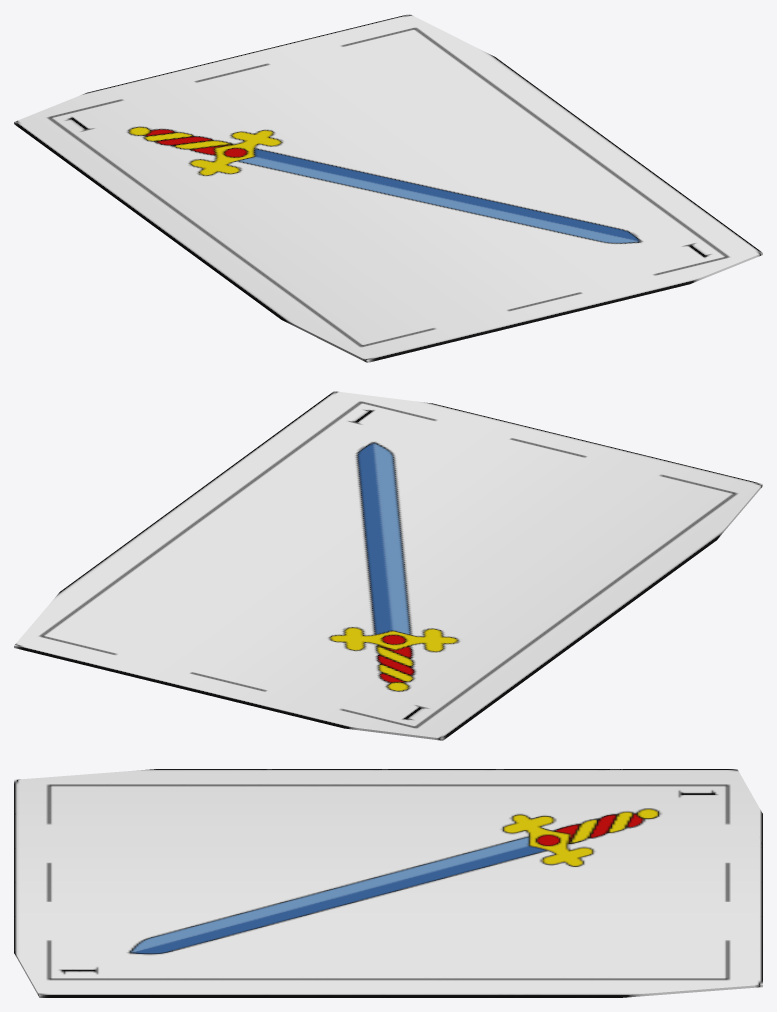
File: Carta_Espanola_As_Espadas.glb
3 views of the same model, one above another, from view 1: azimuth 30°, elevation 25°; view 2: azimuth 150°, elevation 25°; view 3: azimuth 270°, elevation 25° (orthographic). The views are drawn at different scales.
Visible parts, largest first — view 1: Carta_Espanola_As_Espadas; view 2: Carta_Espanola_As_Espadas; view 3: Carta_Espanola_As_Espadas.
Boxes of the visible parts, box(x1,y1,x2,y2) form: Carta_Espanola_As_Espadas: box(14, 14, 762, 362); Carta_Espanola_As_Espadas: box(14, 391, 762, 740); Carta_Espanola_As_Espadas: box(14, 769, 762, 997).
Bounding box in the file's own units: 0.063 × 0.0003 × 0.088.
1 material, 1 textured.
